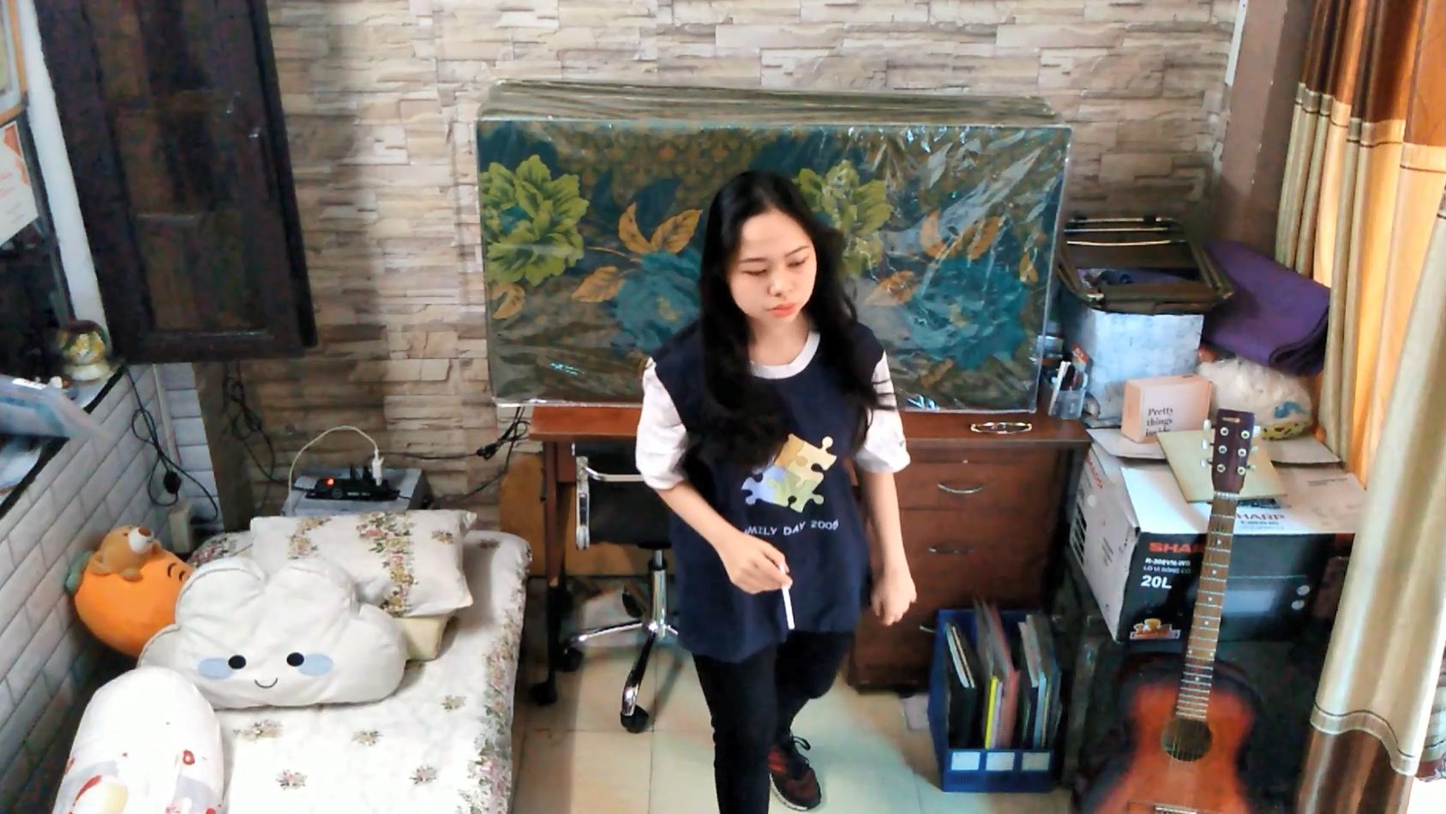cigarette: (777, 556, 806, 638)
person: (605, 149, 932, 814)
